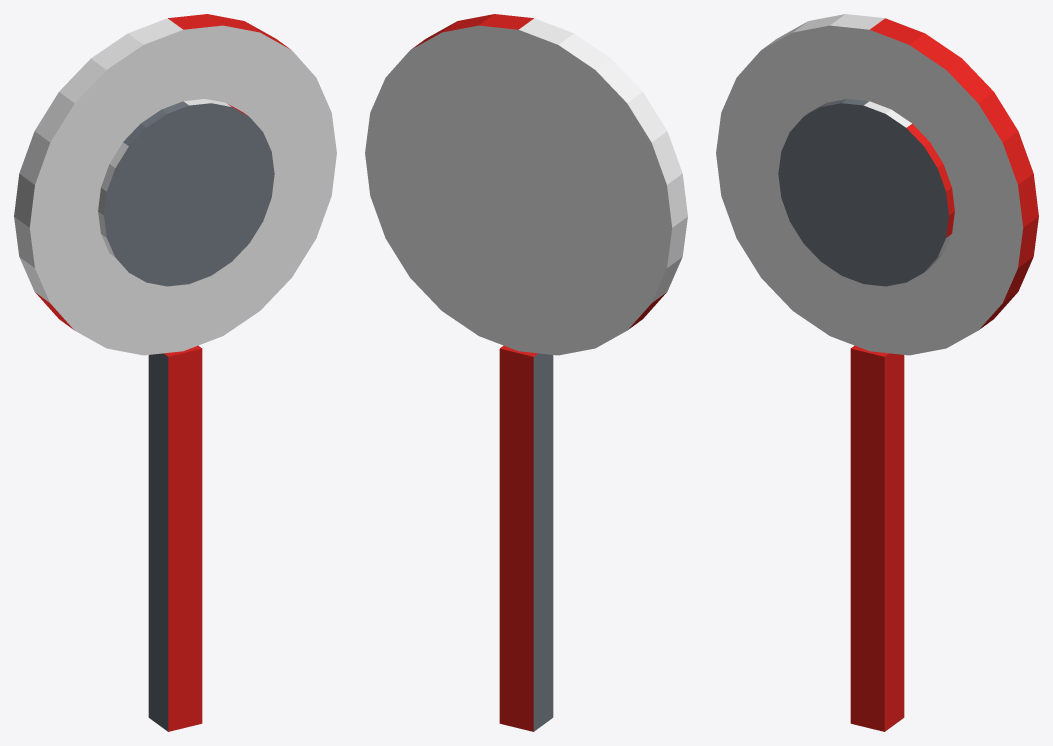
Rendered from target3d.obj.
3 renders of one model, left to right at view 1: azimuth 30°, elevation 25°; view 2: azimuth 150°, elevation 25°; view 3: azimuth 330°, elevation 25°, orthographic.
Bounding box in the file's own units: 0.9 × 1.95 × 0.12.
